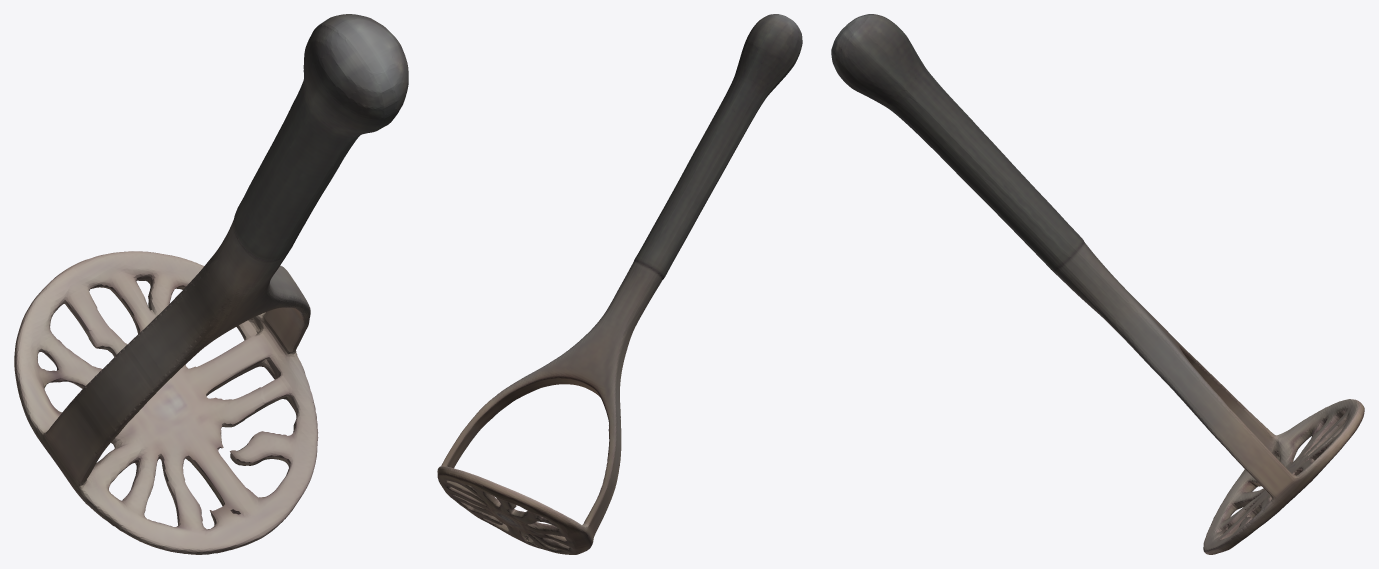
File: frame_0095_source_000095_object.glb
The picture shows the model from 3 angles, left to right: view 1: azimuth 30°, elevation 25°; view 2: azimuth 150°, elevation 25°; view 3: azimuth 270°, elevation 25°; orthographic projection. The views are drawn at different scales.
Parts seen in each view (by area): view 1: world; view 2: world; view 3: world.
Part boxes in pixels (box(x1,y1,x2,y2)): world: box(14, 14, 408, 554); world: box(437, 14, 802, 554); world: box(831, 14, 1364, 554).
Size of the model in its own units: 0.0861 by 0.2108 by 0.2095.
